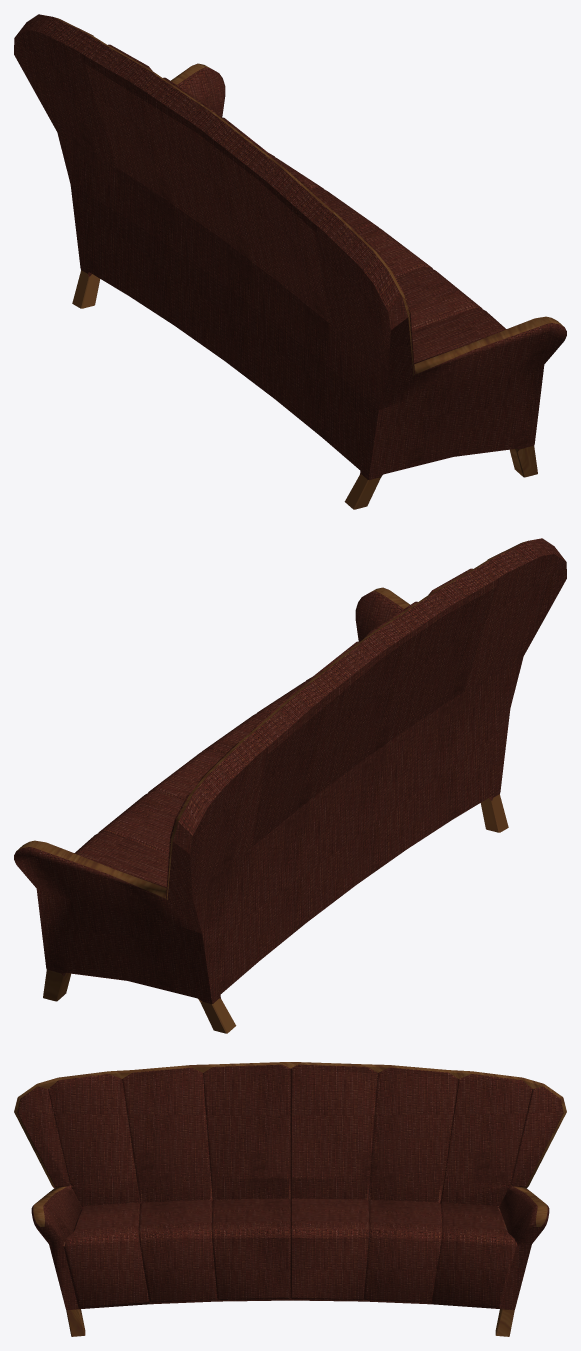
File: Library_Couch.fbx
The picture shows the model from 3 angles, top to bottom: view 1: azimuth 30°, elevation 25°; view 2: azimuth 150°, elevation 25°; view 3: azimuth 270°, elevation 25°; orthographic projection. The views are drawn at different scales.
Visible parts, largest first — view 1: LibraryCouchUVd:pCube5; view 2: LibraryCouchUVd:pCube5; view 3: LibraryCouchUVd:pCube5.
Part boxes in pixels (x1=…): LibraryCouchUVd:pCube5: x1=14, y1=14, x2=566, y2=509; LibraryCouchUVd:pCube5: x1=14, y1=538, x2=566, y2=1033; LibraryCouchUVd:pCube5: x1=14, y1=1062, x2=566, y2=1336.
Bounding box in the file's own units: 1.08 × 1.57 × 3.7.
